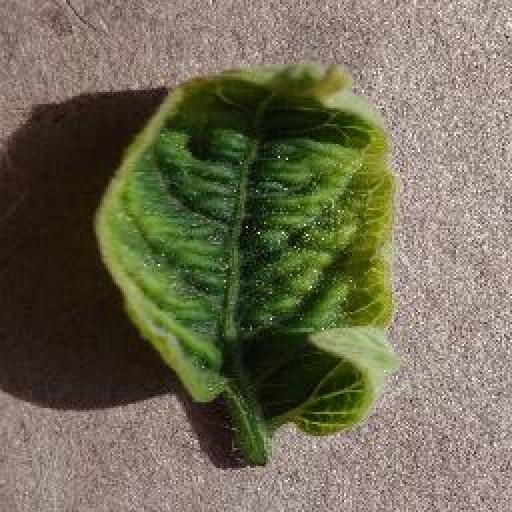disease_tomato: (93, 60, 395, 435)
